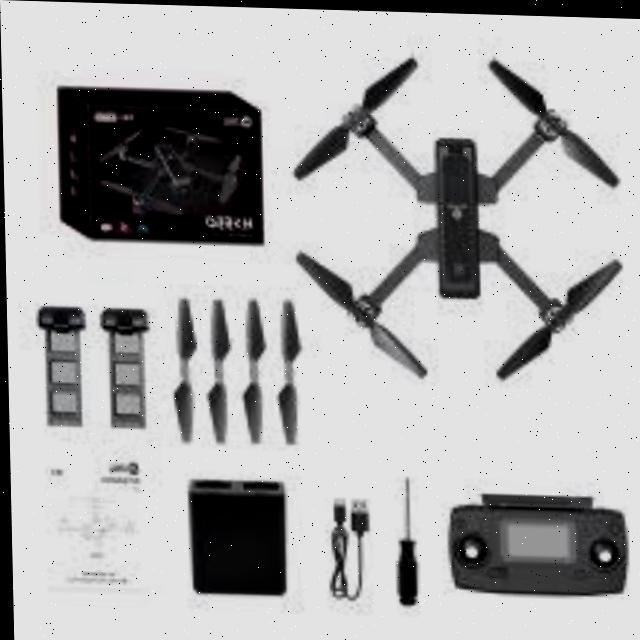drone: (282, 46, 630, 395)
